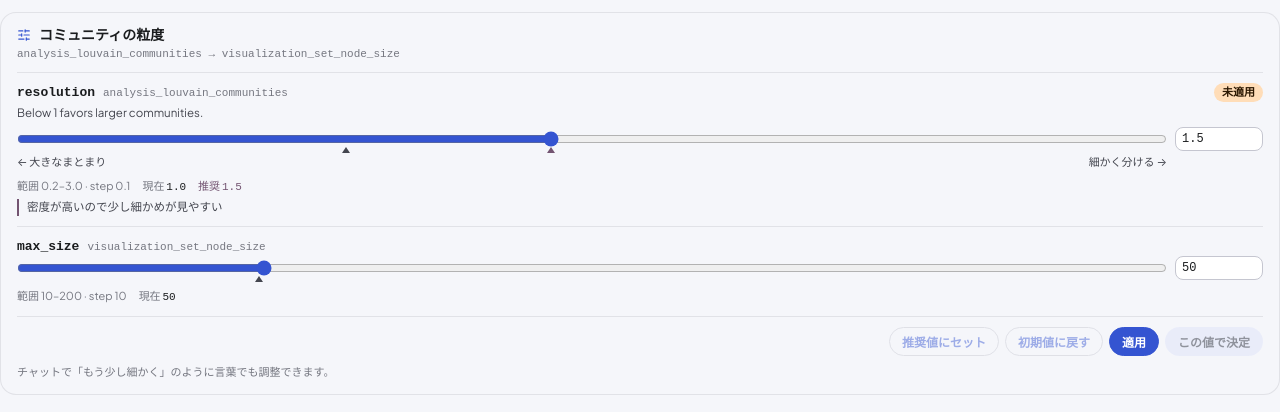
it: ParameterTuning › applies several changed fields in one request and follows the result
Set the slider labelled "resolution" to "2.0": [754, 140] box [17,132,1167,148]
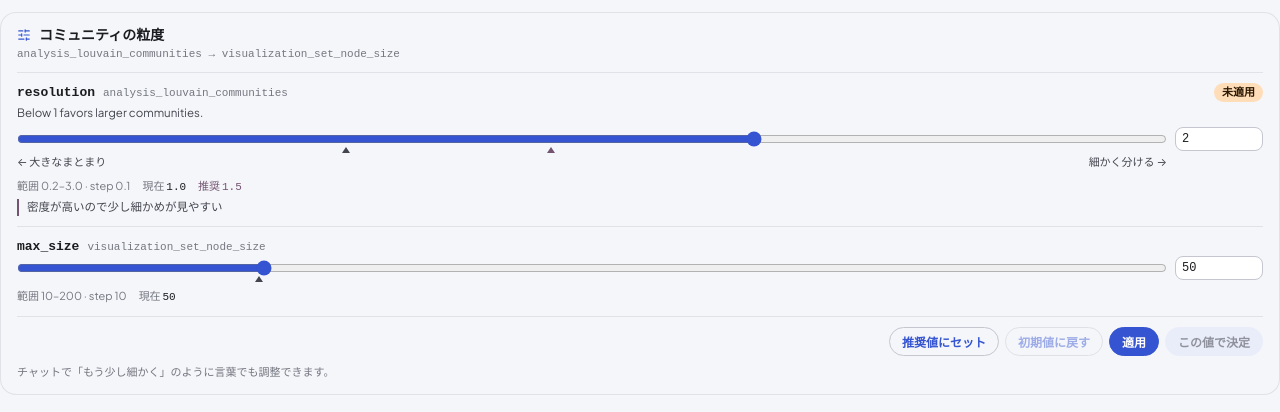
Set the slider labelled "max_size" to "120": [682, 268] box [17,260,1167,276]
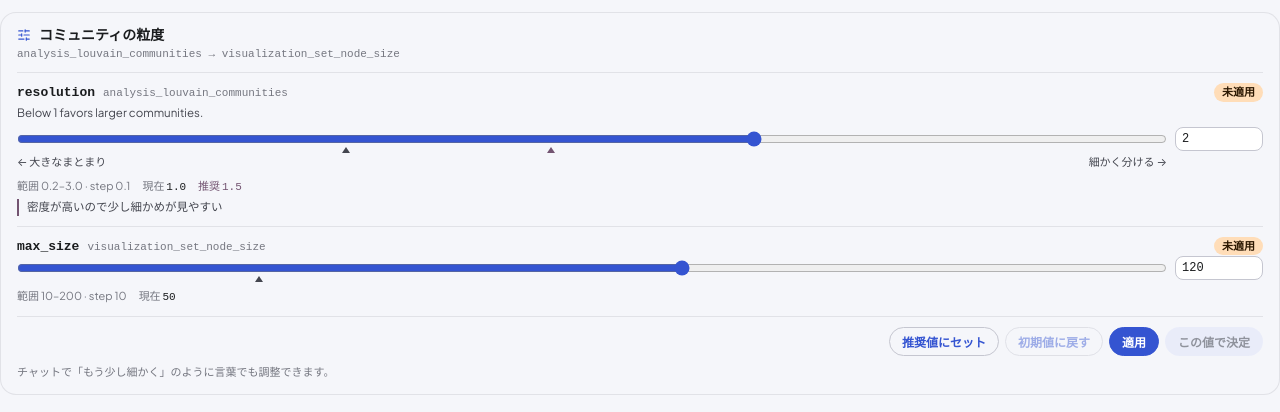
Click the button "適用": [1134, 341] box [1109,327,1159,356]
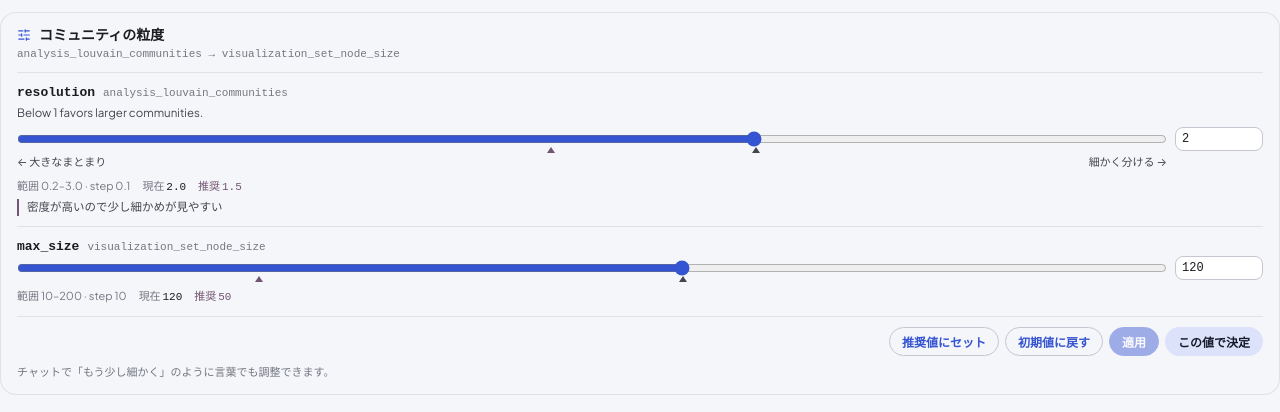
Check: the text "未適用" is gone
